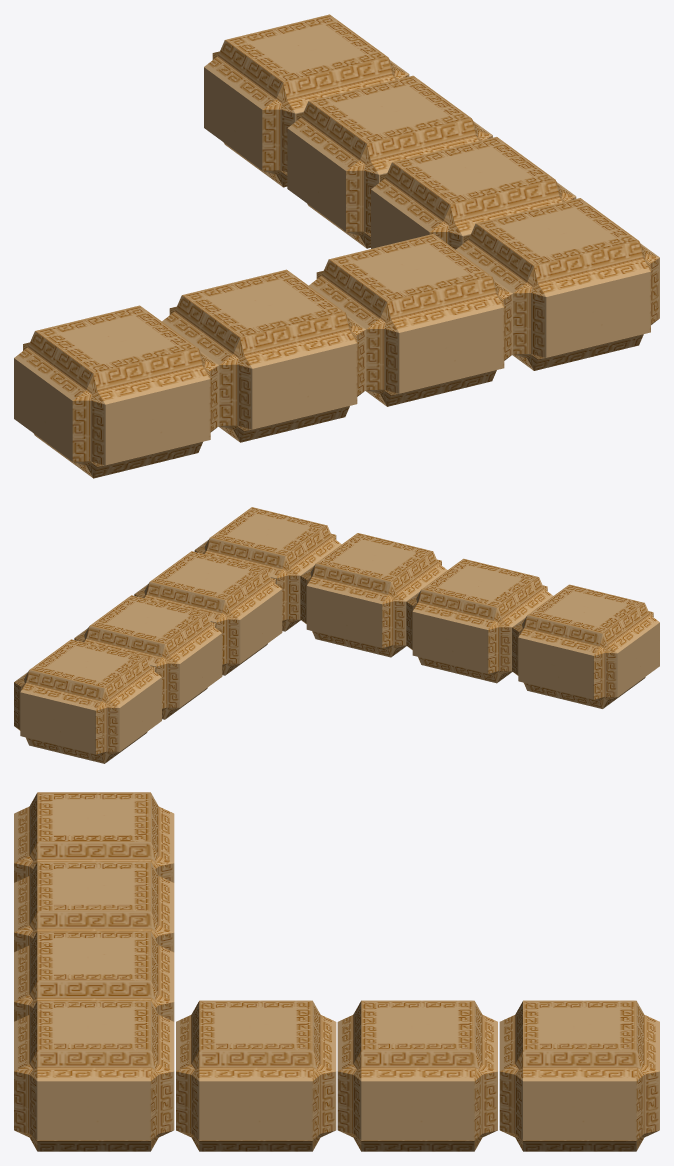
Rendered from lateralpequena.fbx.
The picture shows the model from 3 angles, top to bottom: view 1: azimuth 30°, elevation 25°; view 2: azimuth 150°, elevation 25°; view 3: azimuth 270°, elevation 25°; orthographic projection. The views are drawn at different scales.
Visible parts, largest first — view 1: lateralpequena; view 2: lateralpequena; view 3: lateralpequena.
Boxes of the visible parts, bbox=[...] form: lateralpequena: bbox=[14, 14, 659, 478]; lateralpequena: bbox=[14, 507, 659, 763]; lateralpequena: bbox=[14, 792, 659, 1151].
Size of the model in its own units: 560 by 95.48 by 551.
